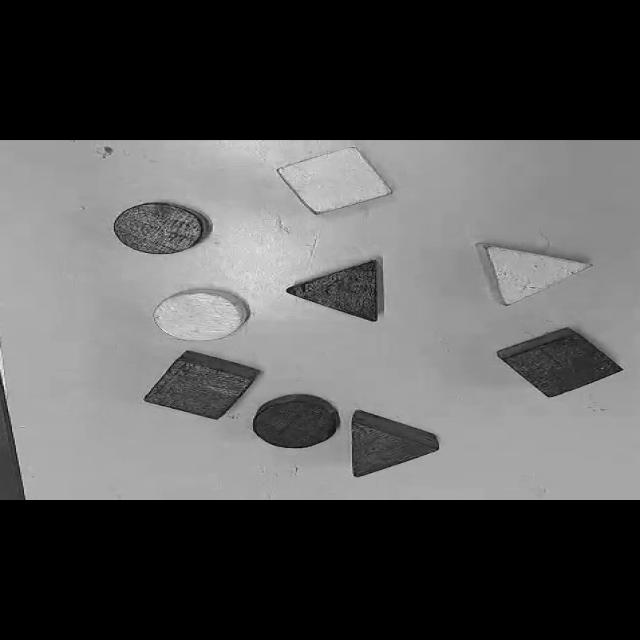bcircle: (252, 394, 338, 447)
bcube: (496, 328, 623, 398)
btriangle: (287, 260, 382, 322)
rcircle: (112, 202, 206, 254)
rcube: (143, 349, 260, 418)
rtriangle: (350, 409, 440, 476)
ycircle: (152, 289, 248, 341)
ycube: (274, 147, 391, 216)
ytriangle: (477, 244, 591, 306)
